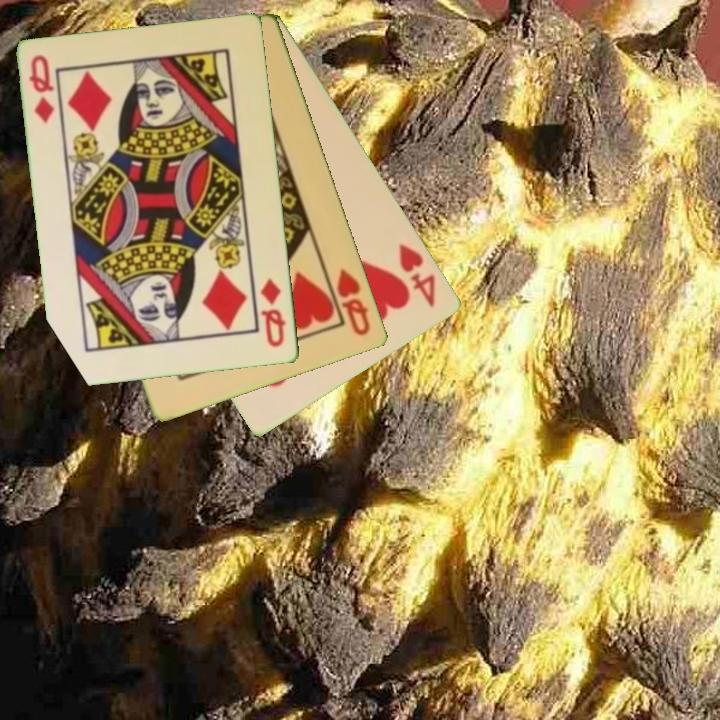4h: (395, 240, 439, 310)
Qd: (257, 275, 290, 351), (26, 52, 58, 126)
Qh: (333, 266, 374, 339)
